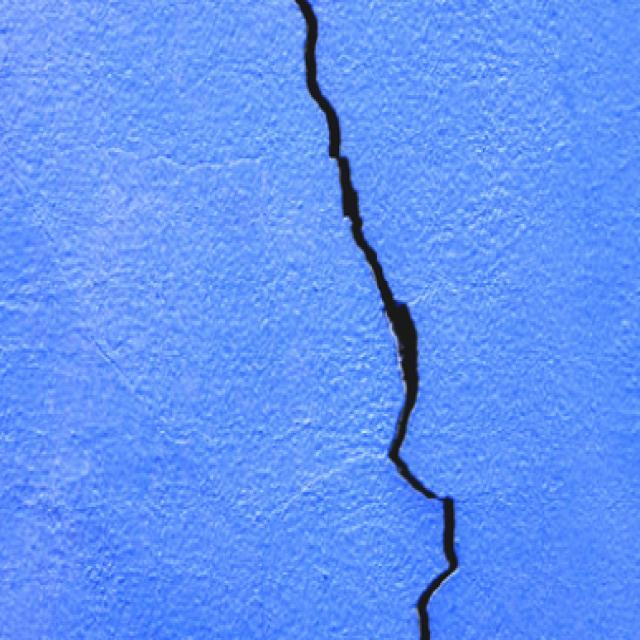curved crack: (295, 0, 457, 639)
